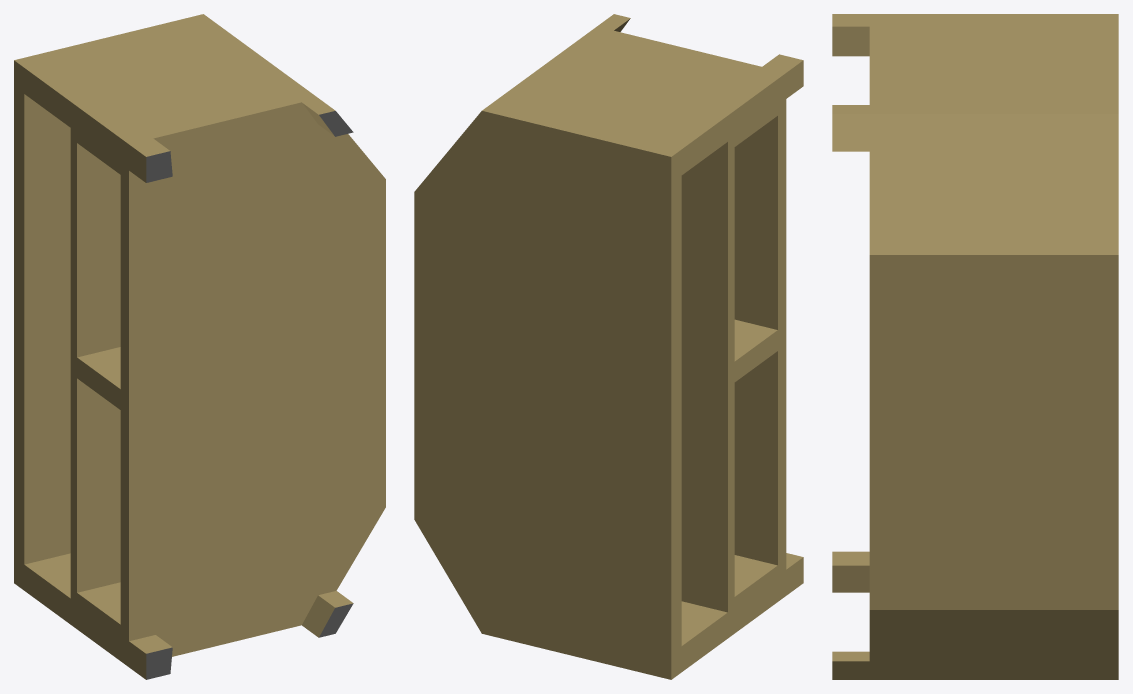
Rendered from TelevisionStand.fbx.
The picture shows the model from 3 angles, left to right: view 1: azimuth 30°, elevation 25°; view 2: azimuth 150°, elevation 25°; view 3: azimuth 270°, elevation 25°; orthographic projection. The views are drawn at different scales.
Visible parts, largest first — view 1: TelevisionStand; view 2: TelevisionStand; view 3: TelevisionStand.
Boxes of the visible parts, left/top/right/bottom form: TelevisionStand: left=14, top=14, right=385, bottom=679; TelevisionStand: left=414, top=14, right=803, bottom=679; TelevisionStand: left=832, top=14, right=1118, bottom=679.
Size of the model in its own units: 82.63 by 161 by 73.63.
